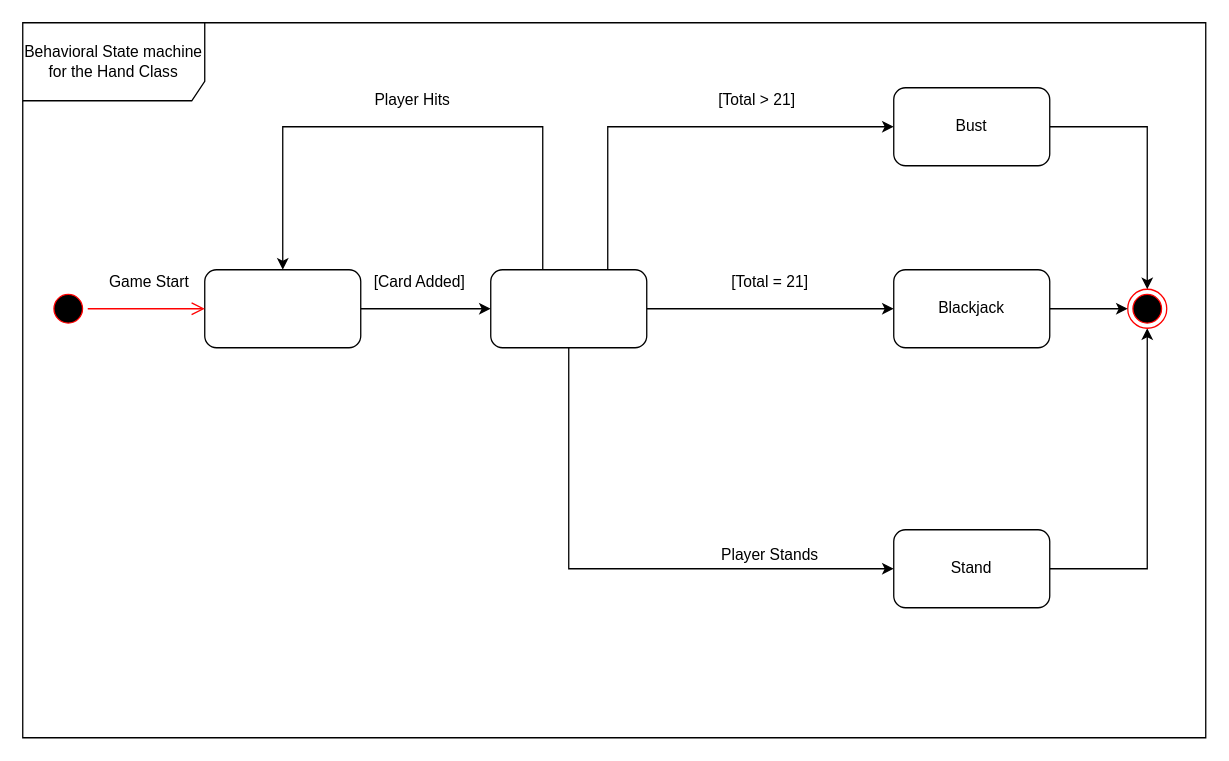
The diagram is 1229 pixels wide and 761 high, and some of its shapes have lost their labels. The centre of each missing label's shape, as x and y in pixels:
"Active Hand" goes at [568,308].
"Incomplete Hand" goes at [282,308].
